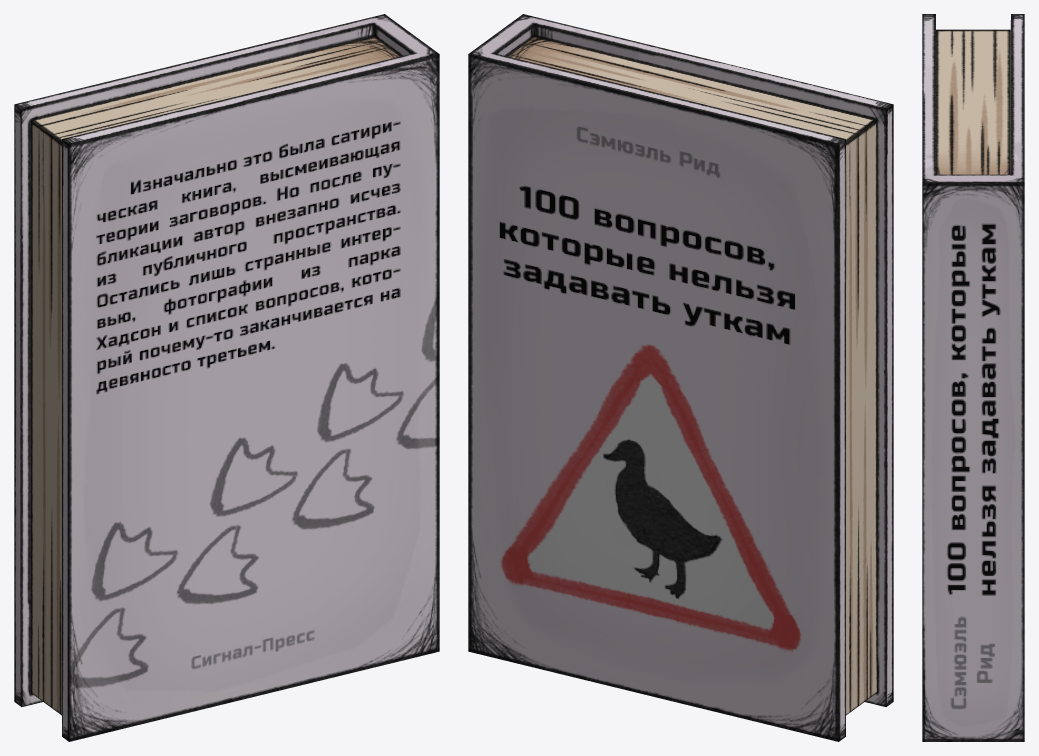
File: book_17.fbx
3 renders of one model, left to right at view 1: azimuth 30°, elevation 25°; view 2: azimuth 150°, elevation 25°; view 3: azimuth 270°, elevation 25°, orthographic. The views are drawn at different scales.
Parts seen in each view (by area): view 1: book_1; view 2: book_1; view 3: book_1.
Part boxes in pixels (<box>): book_1: <box>14,14,439,741</box>; book_1: <box>468,14,893,741</box>; book_1: <box>922,14,1024,741</box>.
Bounding box in the file's own units: 29.92 × 46.11 × 7.66.
1 material, 1 textured.
